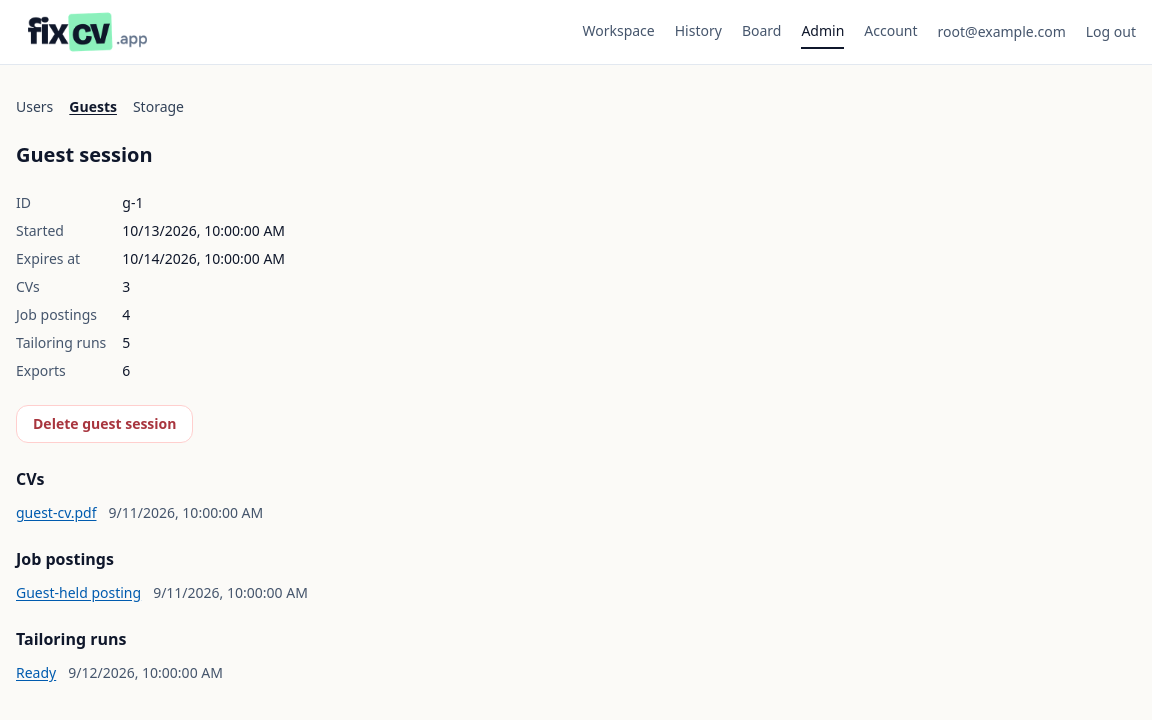
Scenario: AC-40 — accessibility › the Delete guest session dialog takes focus inside, and Cancel returns it to the opener
Click the button "Delete guest session": (105, 424) x1=16 y1=405 x2=194 y2=443
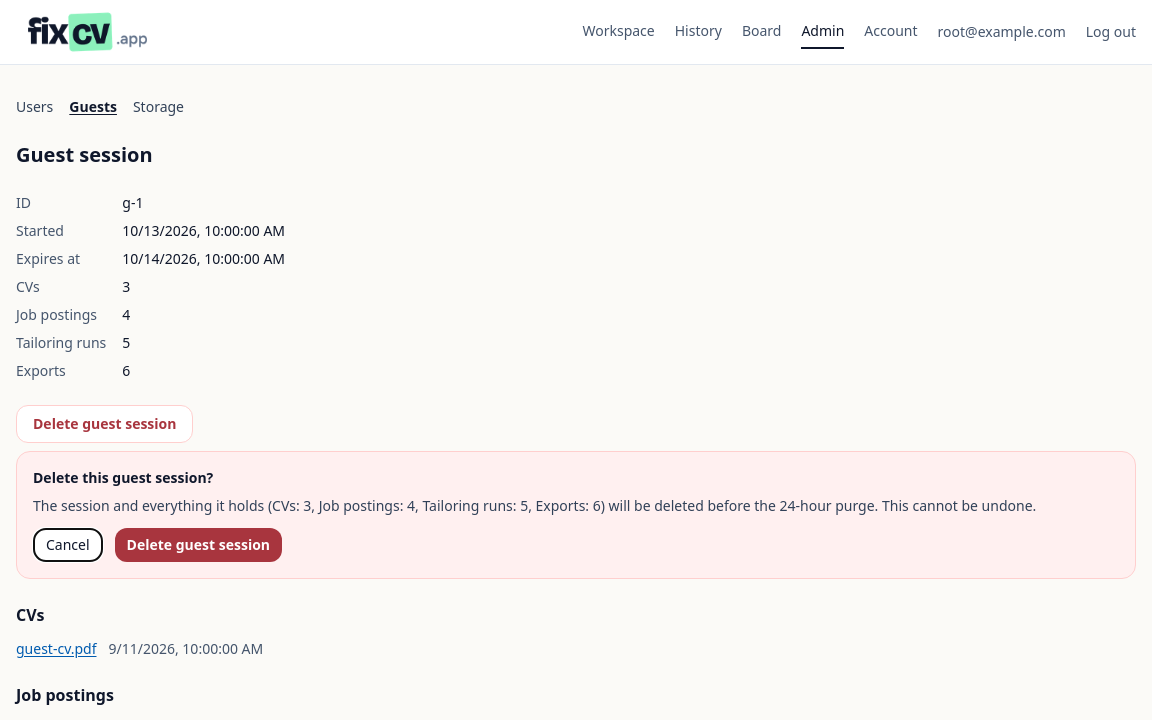
Click the button "Cancel": (68, 545) x1=33 y1=528 x2=103 y2=562
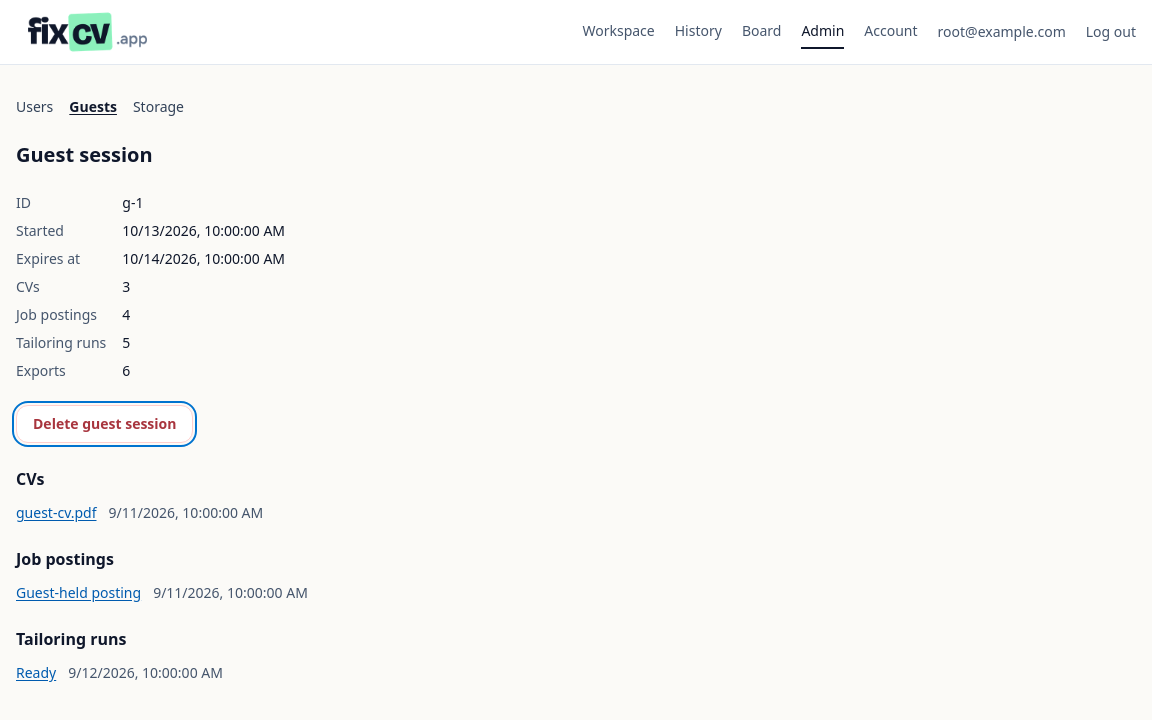
Check: the dialog is gone
